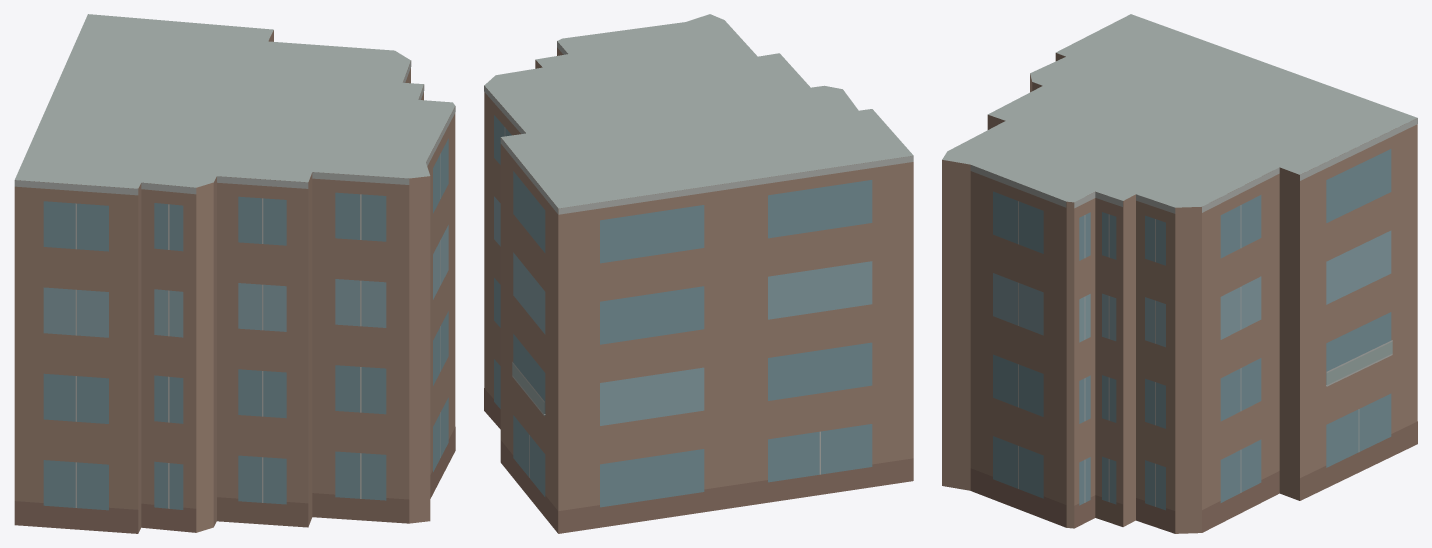
Rendered from survey-upis-33004957.glb.
3 renders of one model, left to right at view 1: azimuth 30°, elevation 25°; view 2: azimuth 150°, elevation 25°; view 3: azimuth 270°, elevation 25°, orthographic. The views are drawn at different scales.
Parts seen in each view (by area): view 1: survey-upis-33004957.tmp; view 2: survey-upis-33004957.tmp; view 3: survey-upis-33004957.tmp.
Boxes of the visible parts, x1,y1,x2,y2 form: survey-upis-33004957.tmp: (14, 14, 455, 533); survey-upis-33004957.tmp: (484, 14, 913, 533); survey-upis-33004957.tmp: (942, 14, 1417, 533).
Bounding box in the file's own units: 16.18 × 12.7 × 16.79.
